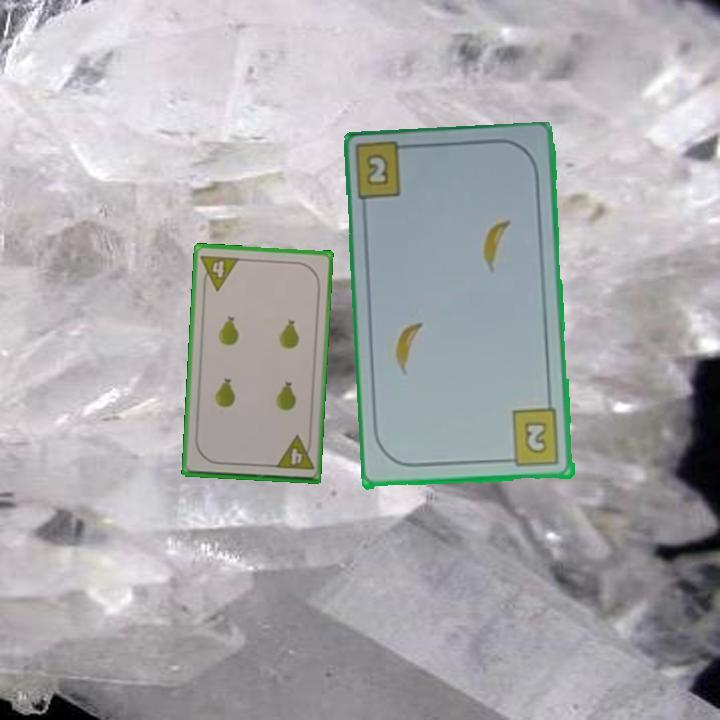2b: (501, 406, 563, 470), (363, 150, 392, 190)
4p: (197, 251, 242, 293), (272, 433, 316, 473)
